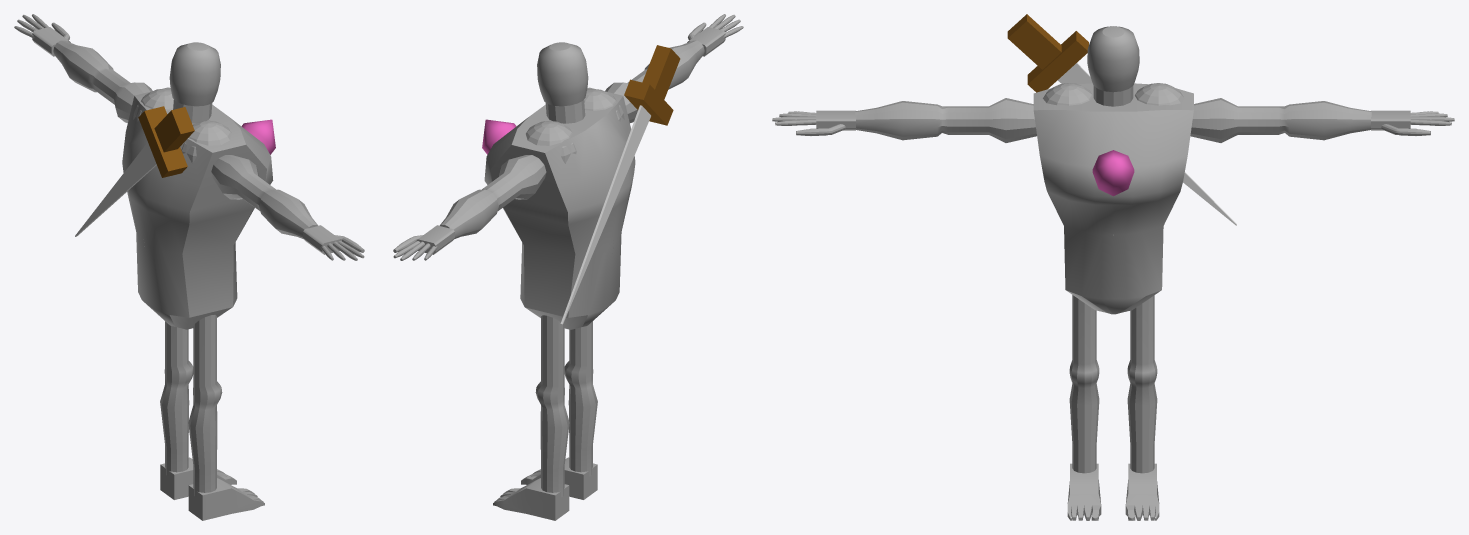
The model's file is Hunter Blockout.fbx.
The picture shows the model from 3 angles, left to right: view 1: azimuth 30°, elevation 25°; view 2: azimuth 150°, elevation 25°; view 3: azimuth 270°, elevation 25°; orthographic projection. The views are drawn at different scales.
Visible parts, largest first — view 1: polySurface6; view 2: polySurface6; view 3: polySurface6.
Boxes of the visible parts, left/top/right/bottom form: polySurface6: left=14, top=14, right=364, bottom=520; polySurface6: left=393, top=14, right=743, bottom=520; polySurface6: left=772, top=14, right=1454, bottom=520.
Size of the model in its own units: 4.31 by 12.88 by 17.04.
